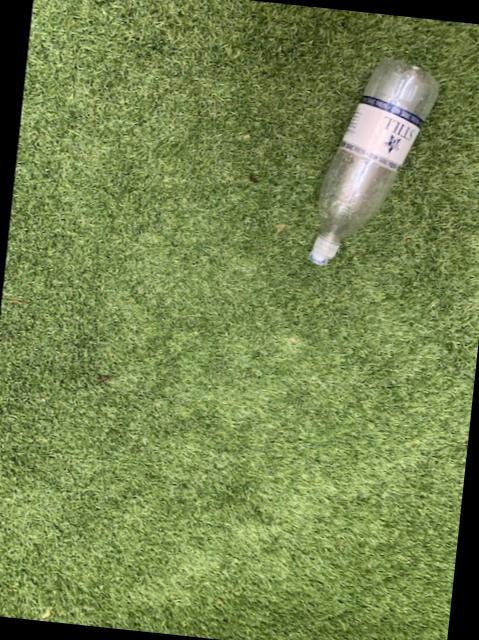plastic: (310, 60, 439, 265)
